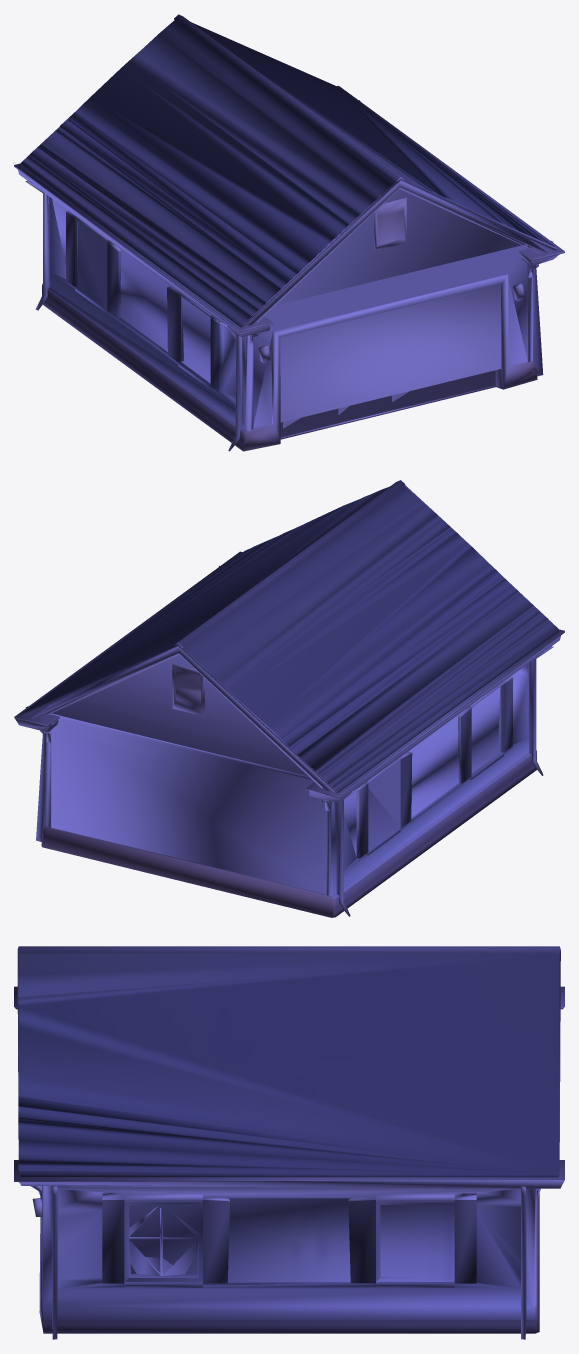
File: model.progressive.glb
3 renders of one model, top to bottom at view 1: azimuth 30°, elevation 25°; view 2: azimuth 150°, elevation 25°; view 3: azimuth 270°, elevation 25°, orthographic. The views are drawn at different scales.
Parts seen in each view (by area): view 1: material; view 2: material; view 3: material.
Boxes of the visible parts, x1,y1,x2,y2 form: material: (14, 14, 564, 451); material: (14, 480, 564, 917); material: (14, 946, 564, 1339).
Size of the model in its own units: 1.62 by 1.14 by 1.9.
Materials: 1 (1 with a texture image).
